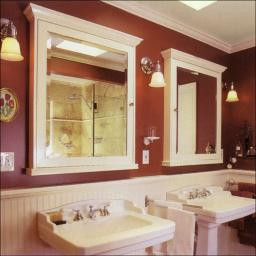Lavamanos: (36, 201, 177, 252), (176, 182, 253, 233)
